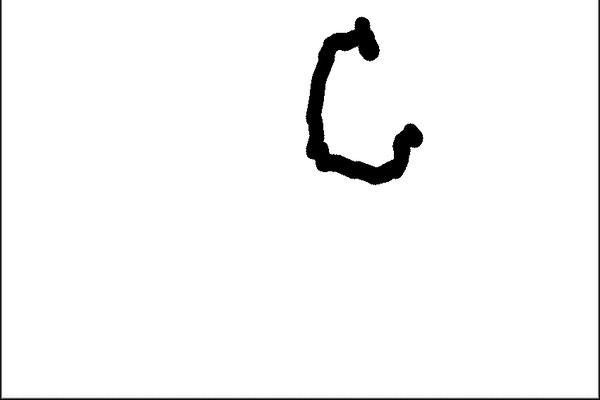C: (298, 13, 428, 188)
